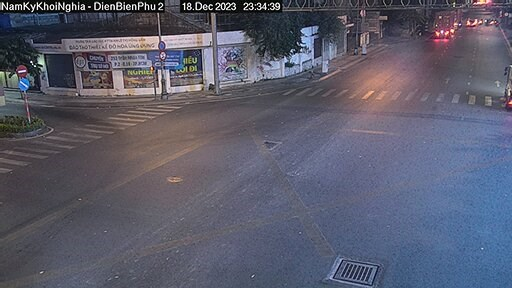truck: (429, 10, 459, 38)
